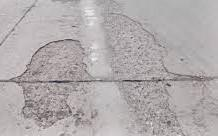crack: (0, 77, 218, 82), (0, 27, 16, 45), (14, 11, 28, 28), (25, 0, 38, 13)
pothole: (26, 37, 88, 80), (113, 60, 173, 104), (21, 80, 72, 127), (102, 11, 153, 58), (127, 107, 185, 136)
